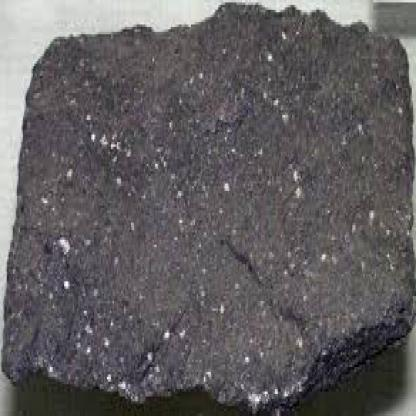Igneous_Basalt: (1, 10, 416, 414)
